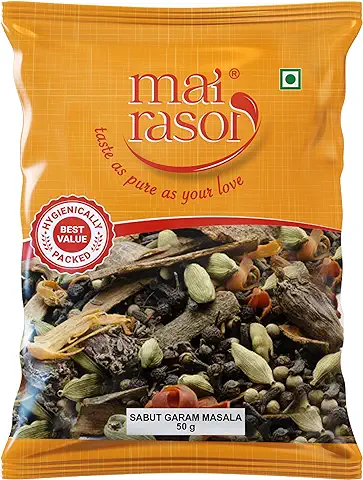Garamasala: (4, 2, 363, 480)
